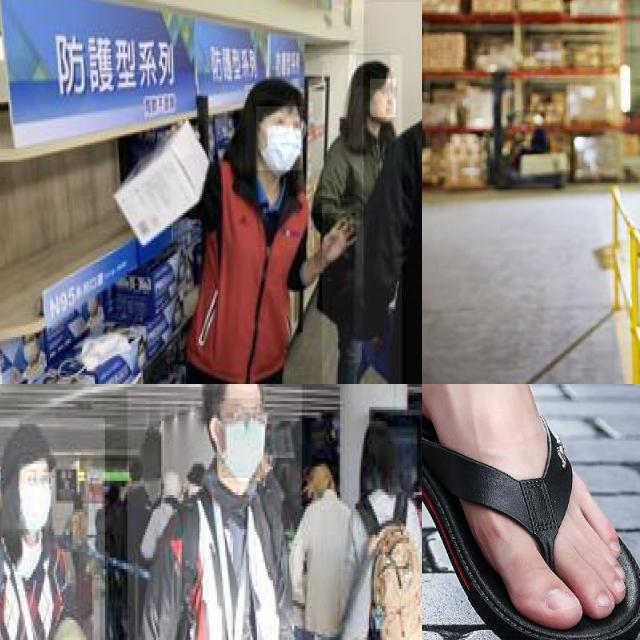Sandals: (422, 384, 640, 640)
face_mask: (222, 398, 263, 481), (256, 106, 304, 172), (18, 464, 51, 532)
face_nomask: (370, 79, 397, 119)
hand_noglove: (314, 213, 356, 271)
head_nohelmet: (9, 421, 62, 467), (250, 76, 303, 115), (356, 53, 392, 89), (202, 384, 263, 392)
person: (127, 384, 303, 640), (322, 55, 402, 384), (354, 2, 422, 384), (0, 418, 106, 640), (364, 0, 422, 384)
